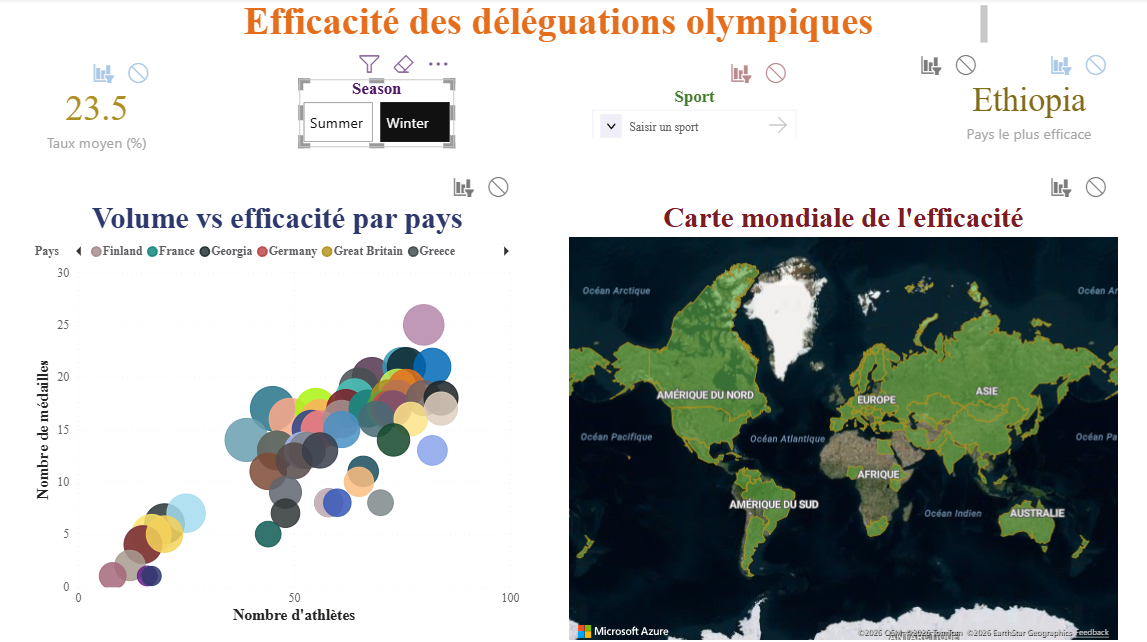

This screenshot's page, from the dashboard's own definition file:
{"tool":"powerbi","page":{"name":"Page 1","canvas":[1280,720],"ordinal":0},"visuals":[{"type":"azureMap","title":" Carte mondiale de l''efficacité","fields":{"Category":["olympics_athletes_dataset.country_name"]},"box":[629.8,225,621.2,495.2],"z":0},{"type":"PBI_CV_7B952816_A48F_49B4_9E13_15E3BB2C0337","fields":{"Values":["olympics_athletes_dataset.Taux moyen (%)"]},"box":[36.2,98.8,148.9,77.9],"z":1000},{"type":"PBI_CV_7B952816_A48F_49B4_9E13_15E3BB2C0337","fields":{"Values":["olympics_athletes_dataset.Pays le plus efficace"]},"box":[1044.3,90.5,206.7,75.8],"z":2000},{"type":"scatterChart","title":"Volume vs efficacité par pays","fields":{"X":["olympics_athletes_dataset.Nb athletes"],"Y":["olympics_athletes_dataset.Nb medailles"],"Category":["olympics_athletes_dataset.country_name"],"Series":["olympics_athletes_dataset.country_name"]},"box":[36.7,225,549.1,475.7],"z":3000},{"type":"advancedSlicerVisual","title":"Season","fields":{"Values":["olympics_athletes_dataset.games_type"]},"box":[334.9,90.4,172.5,75.1],"z":4000},{"type":"textSlicer","title":"Sport","fields":{"Values":["olympics_athletes_dataset.sport"]},"box":[657.2,99,237.2,57.5],"z":5000},{"type":"textbox","box":[150.3,0,955.8,55.7],"z":6000}]}

Visuals, with their boxes in screenshot pixels (x1, y1, x2, y2), scaled from the page's 1280x720 canvas onto the 1147x642 screenshot:
" Carte mondiale de l''efficacité" azureMap: (left=564, top=201, right=1121, bottom=641)
PBI_CV_7B952816_A48F_49B4_9E13_15E3BB2C0337 - olympics_athletes_dataset.Taux moyen (%): (left=32, top=88, right=166, bottom=158)
PBI_CV_7B952816_A48F_49B4_9E13_15E3BB2C0337 - olympics_athletes_dataset.Pays le plus efficace: (left=936, top=81, right=1121, bottom=148)
"Volume vs efficacité par pays" scatterChart: (left=33, top=201, right=525, bottom=625)
"Season" advancedSlicerVisual: (left=300, top=81, right=455, bottom=148)
"Sport" textSlicer: (left=589, top=88, right=801, bottom=140)
textbox: (left=135, top=0, right=991, bottom=50)
